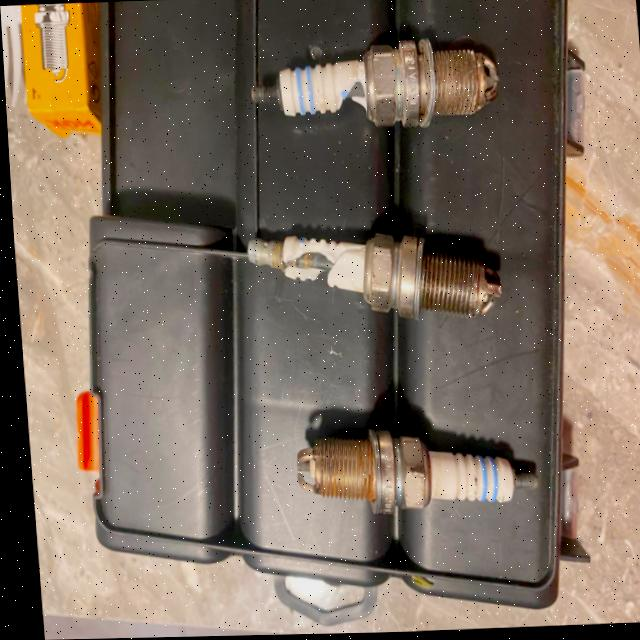damaged_spark-plug: (232, 30, 500, 144), (232, 227, 500, 337)
spark-plug: (274, 417, 540, 530)
